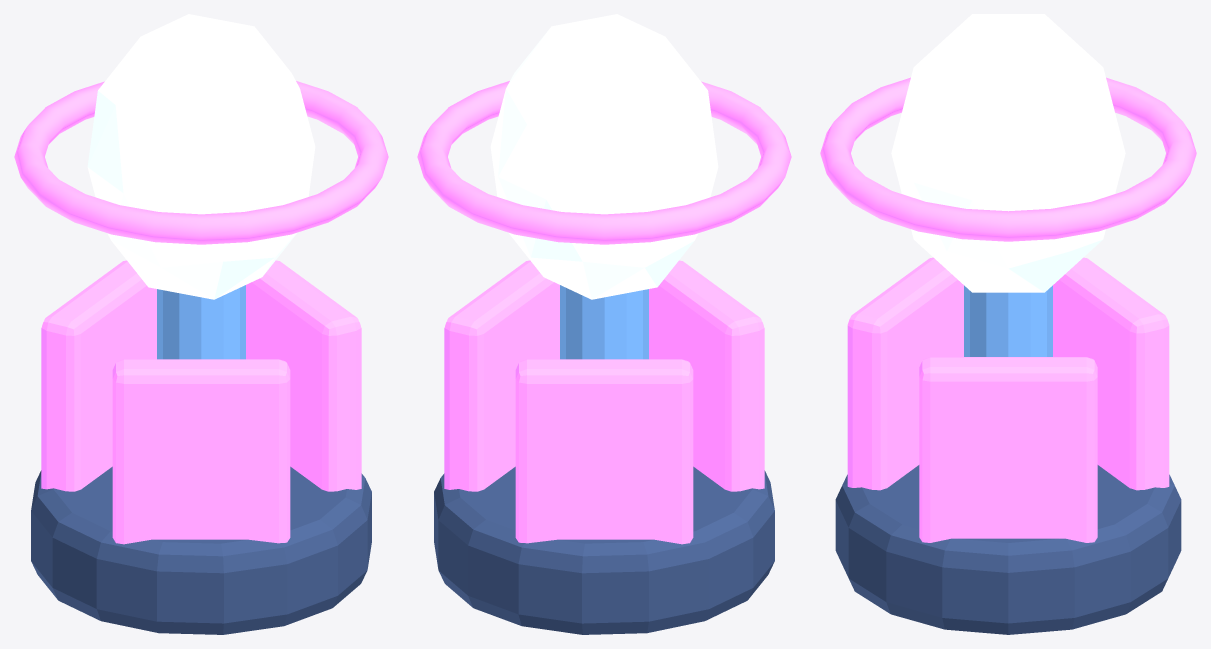
The model's file is switch_beacon.glb.
The picture shows the model from 3 angles, left to right: view 1: azimuth 30°, elevation 25°; view 2: azimuth 150°, elevation 25°; view 3: azimuth 270°, elevation 25°; orthographic projection.
Visible parts, largest first — view 1: switch_beacon_MobileMesh; view 2: switch_beacon_MobileMesh; view 3: switch_beacon_MobileMesh.
Boxes of the visible parts, bbox=[...] form: switch_beacon_MobileMesh: bbox=[14, 14, 388, 634]; switch_beacon_MobileMesh: bbox=[417, 14, 791, 634]; switch_beacon_MobileMesh: bbox=[820, 14, 1196, 634].
Bounding box in the file's own units: 1.35 × 2.2 × 1.35.
